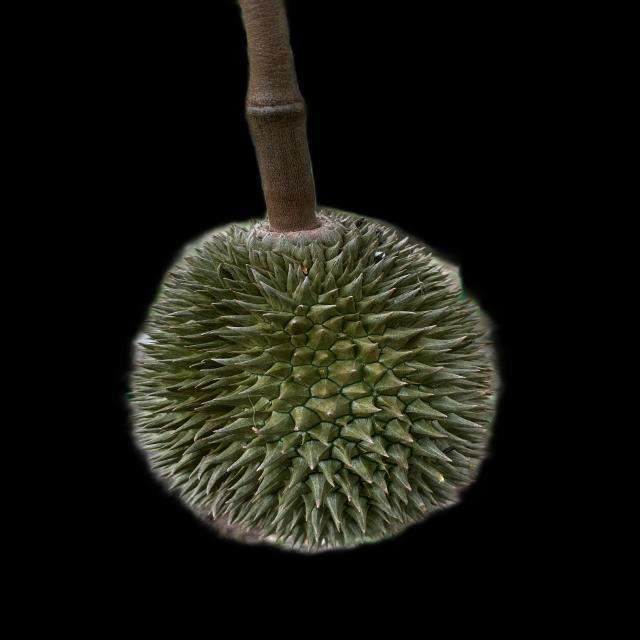UNRIPE: (133, 207, 495, 548)
